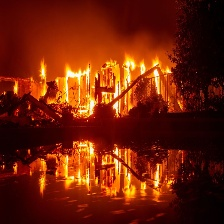fire: (38, 57, 178, 111)
smoke: (6, 4, 178, 62)
